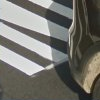crosswalk: (0, 0, 76, 75)
